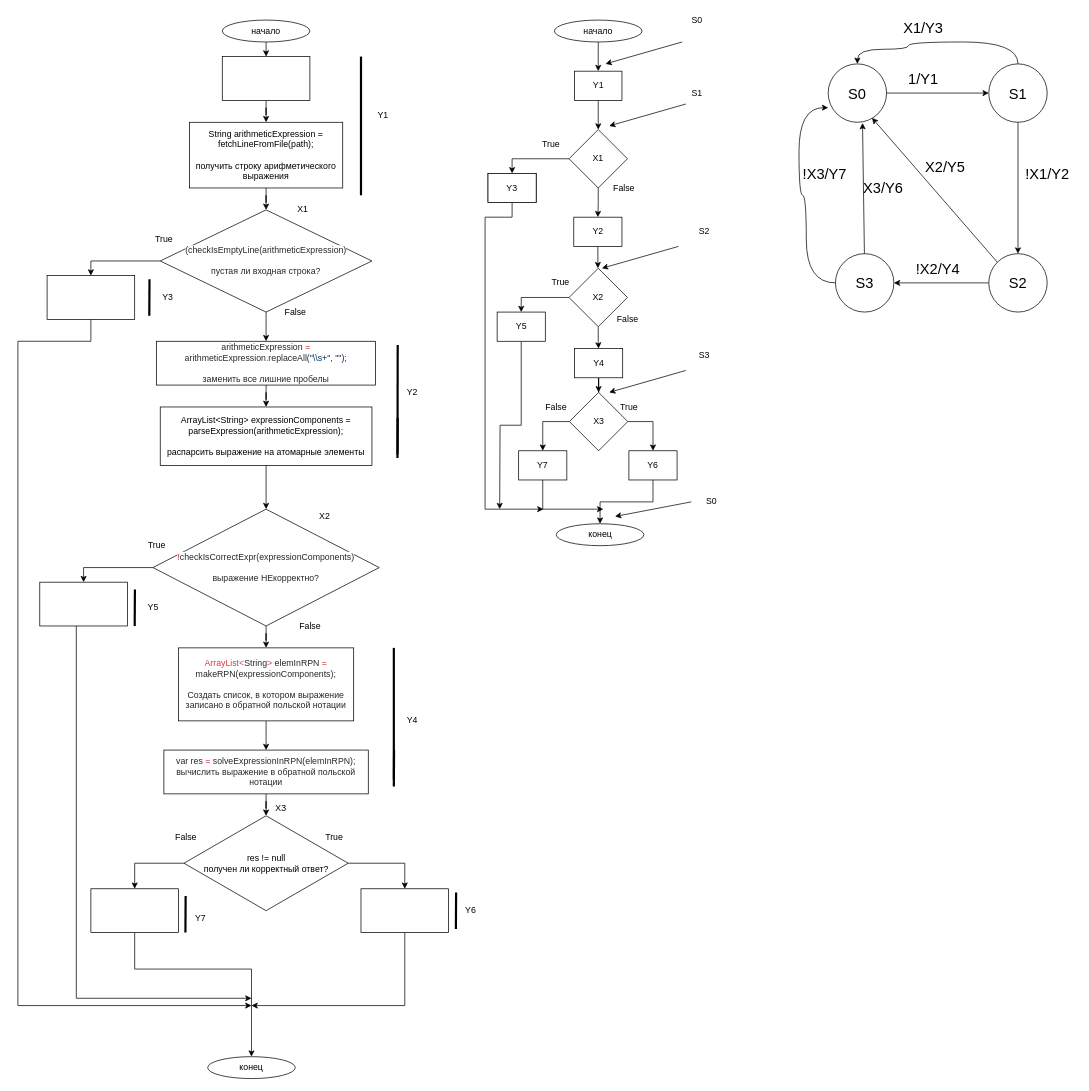
Image size: 1089x1091. Some labels were removed from this diagram. The shapes that lost their labels are listed below. From the top down, each one's centre as x and y in pixels, then its label:
At (x=266, y=78): "Инициализация необходимых переменных".
At (x=90, y=297): "Вывод сообщения о пустой входной строке".
At (x=83, y=603): "Вывод сообщения о НЕкорректности выражения".
At (x=134, y=910): "Вывод сообщения об ошибке, по которой вычисление не выполнено".
At (x=404, y=910): "Вывод ответа".
